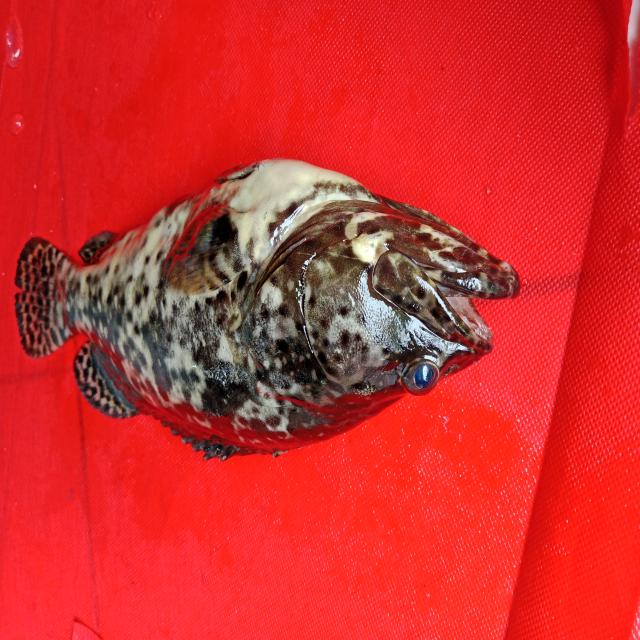ikan: (13, 143, 526, 471)
